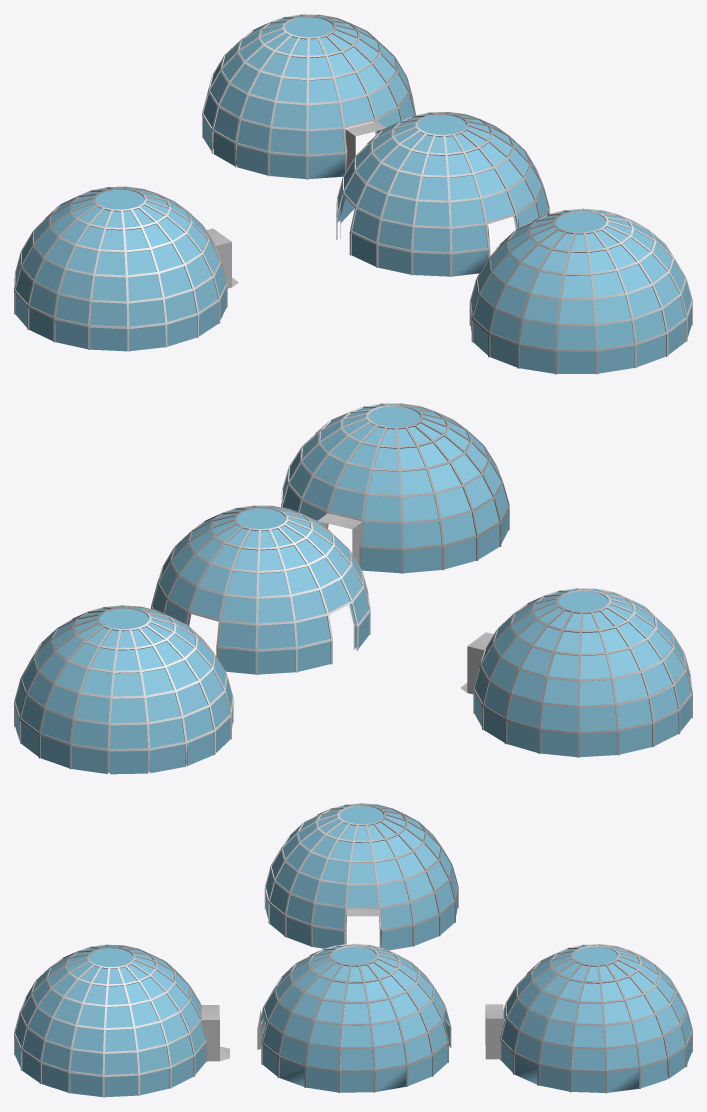
The model's file is cuatrodomos.fbx.
3 views of the same model, one above another, from view 1: azimuth 30°, elevation 25°; view 2: azimuth 150°, elevation 25°; view 3: azimuth 270°, elevation 25° (orthographic). The views are drawn at different scales.
Visible parts, largest first — view 1: domo_3, domo_4, domo1, domo_2; view 2: domo_4, domo1, domo_3, domo_2; view 3: domo_3, domo1, domo_2, domo_4.
Part boxes in pixels (x1,y1,x2,y2): domo_3: (469,208,692,374); domo_4: (14,186,238,351); domo1: (202,14,415,179); domo_2: (336,112,549,276); domo_4: (460,588,692,757); domo1: (14,605,233,774); domo_3: (281,403,509,573); domo_2: (151,505,370,674); domo_3: (14,944,229,1097); domo1: (485,944,692,1093); domo_2: (257,943,451,1092); domo_4: (264,803,458,950).
Bounding box in the file's own units: 12324 × 2468 × 15586.
Materials: 8 (8 with a texture image).
